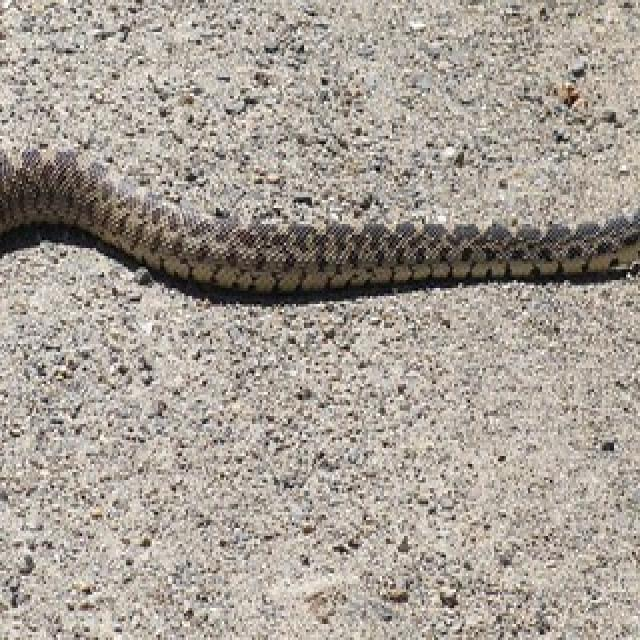Snake: (0, 139, 640, 360)
